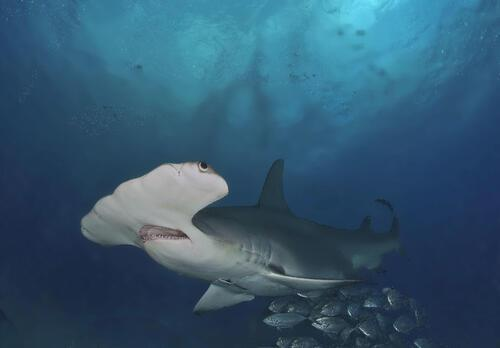shark: (80, 158, 412, 316)
